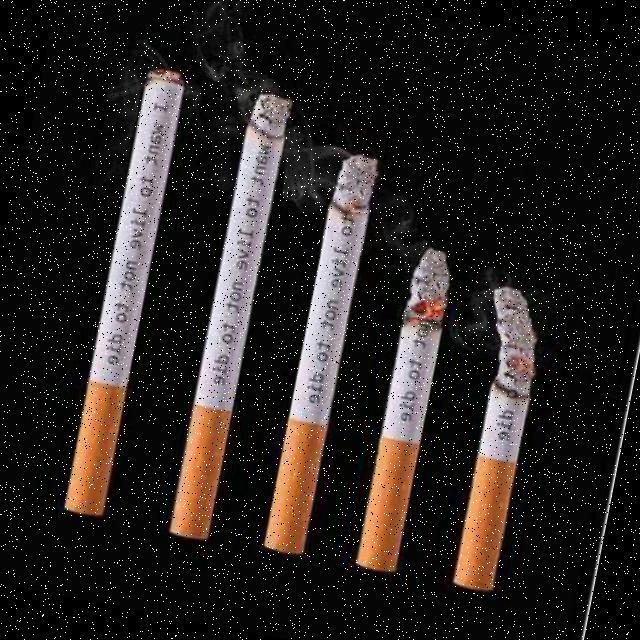cigarette: (56, 59, 196, 523)
